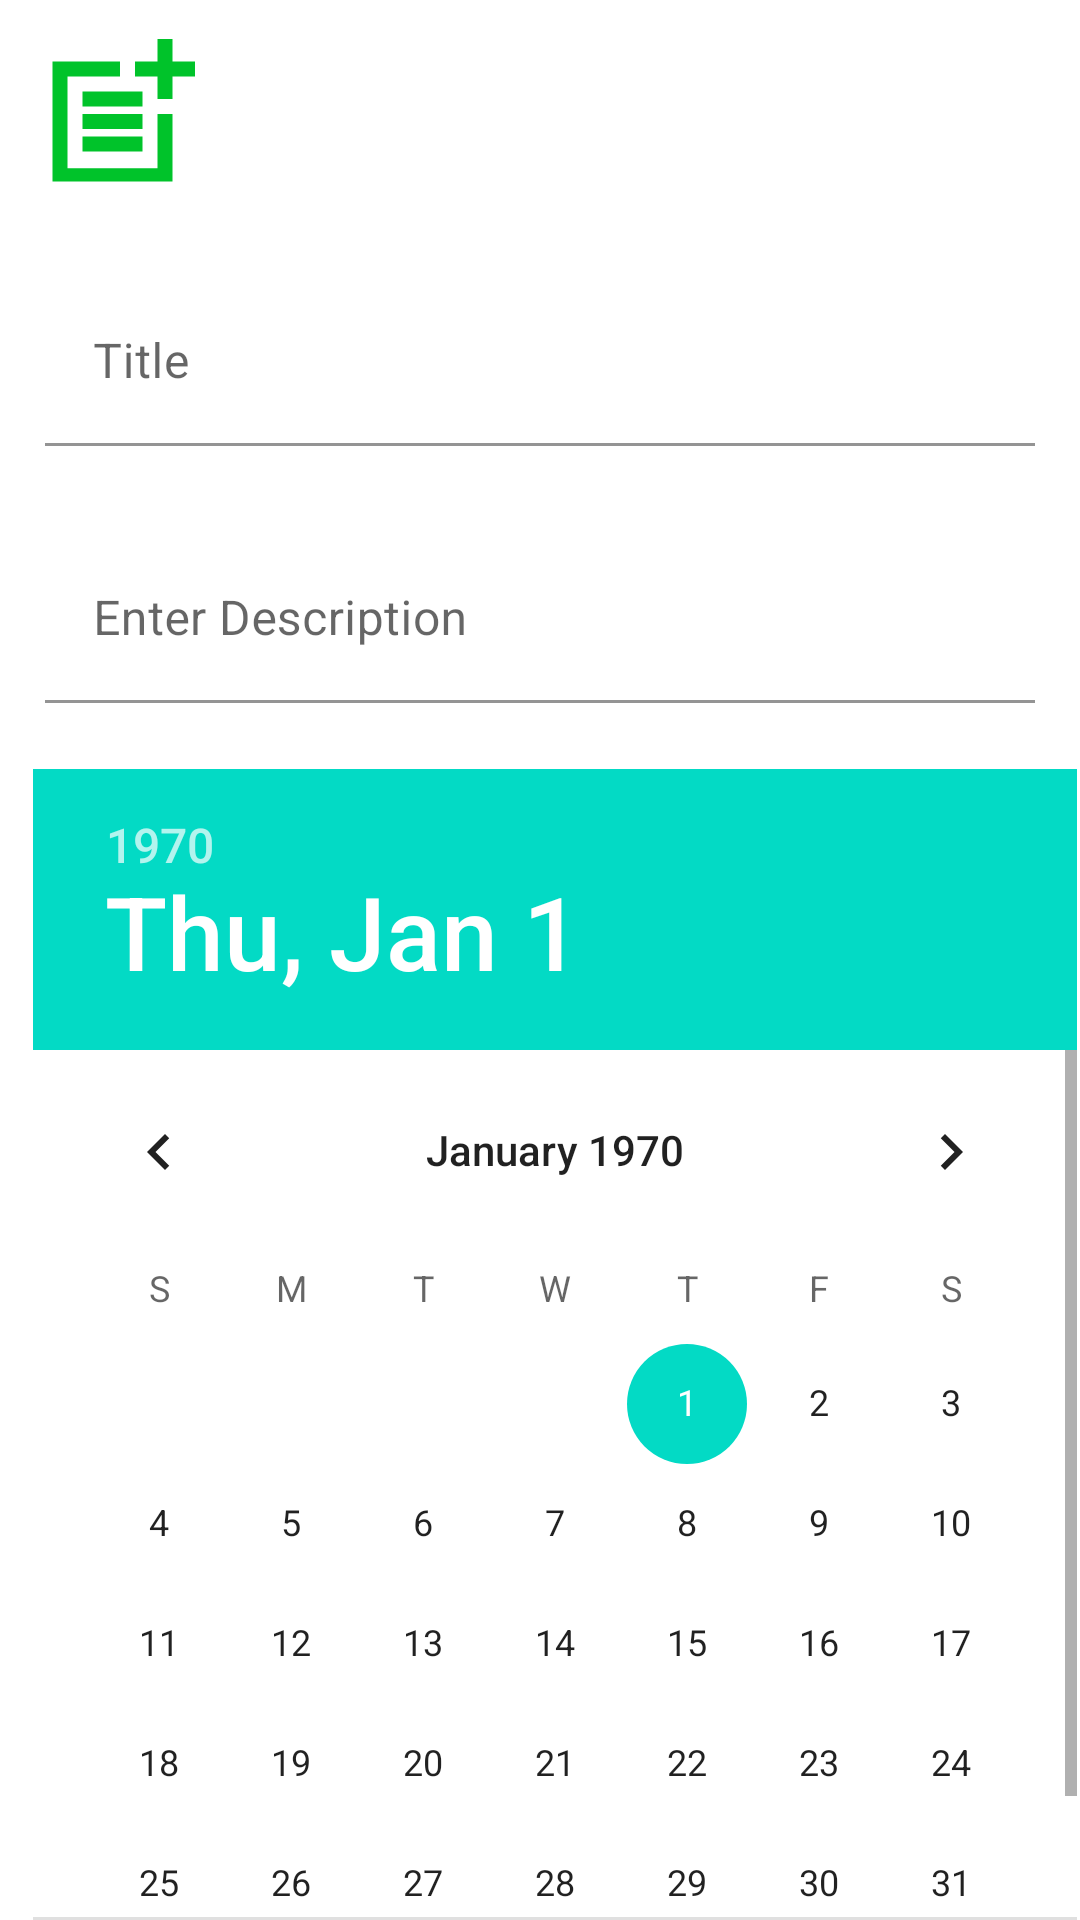

Named icons in this screenshot (1080 × 1920) and their centers, (x,y):
add note: (123,110)
